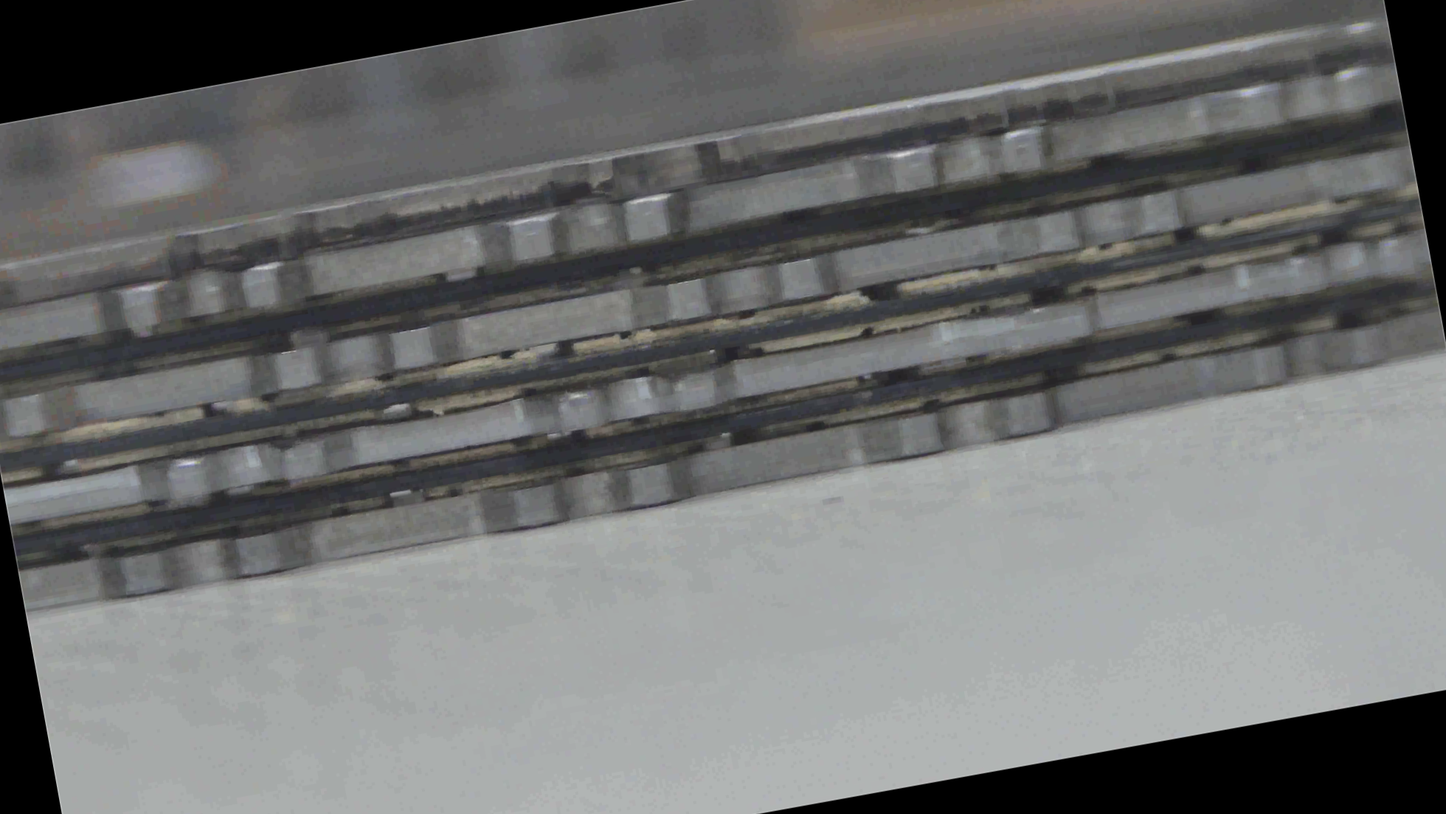Black metal plate: (19, 312, 1446, 610), (0, 109, 1433, 213)
shiney metal plate: (64, 28, 1355, 735), (103, 0, 1446, 473), (4, 495, 1445, 544)
spacer: (0, 200, 1436, 294), (0, 404, 1445, 437), (2, 325, 1445, 351)
